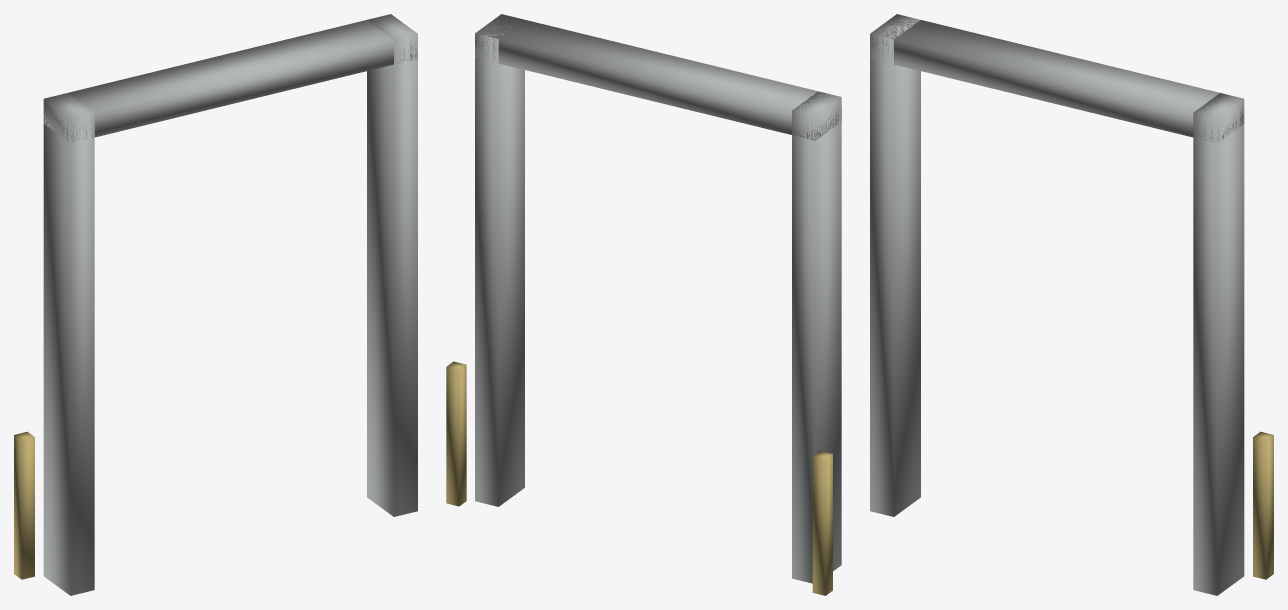
Rendered from elevator_shaft_industrial_w180_h260_d28.glb.
3 renders of one model, left to right at view 1: azimuth 30°, elevation 25°; view 2: azimuth 150°, elevation 25°; view 3: azimuth 330°, elevation 25°, orthographic. The views are drawn at different scales.
Parts seen in each view (by area): view 1: world; view 2: world; view 3: world.
Part boxes in pixels (x1,y1,x2,y2): world: (14, 14, 417, 595); world: (446, 14, 841, 595); world: (870, 14, 1273, 595).
Bounding box in the file's own units: 2.33 × 2.74 × 0.38.
